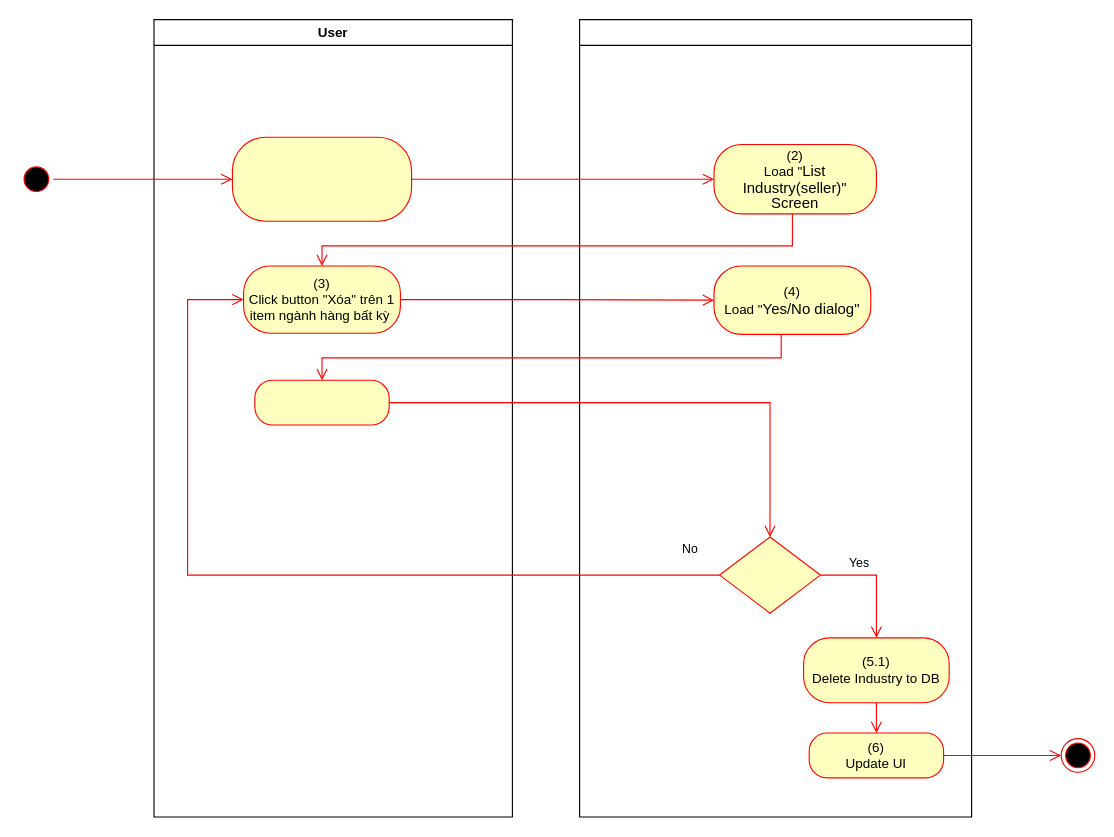
The diagram is 1114 pixels wide and 837 high, and some of its shapes have lost their labels. The box of each missing label's shape, as (x1, y1, x2, y2) in pixels:
(1) On "left menu" click " Product Management – List Industry ": (231, 136, 412, 221)
(5) Click "Yes" or "No" button: (254, 379, 389, 425)
System: (578, 18, 972, 817)
